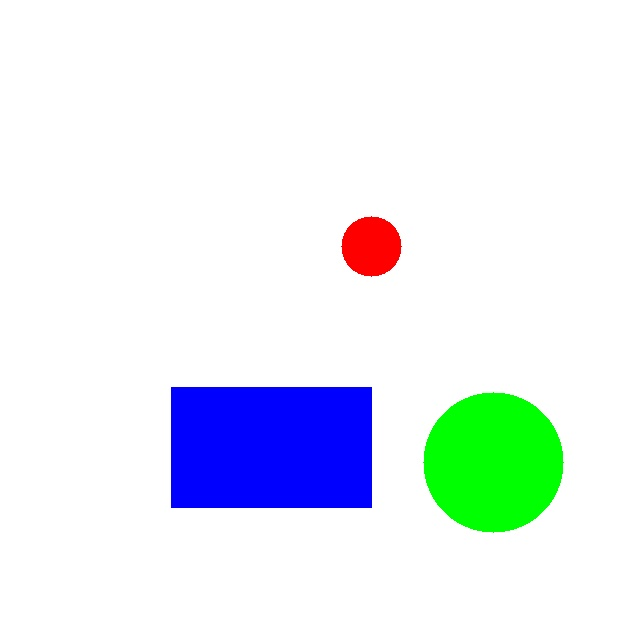cartao: (171, 387, 371, 507)
rosca_externa: (423, 392, 563, 532)
rosca_interna: (341, 216, 401, 276)
